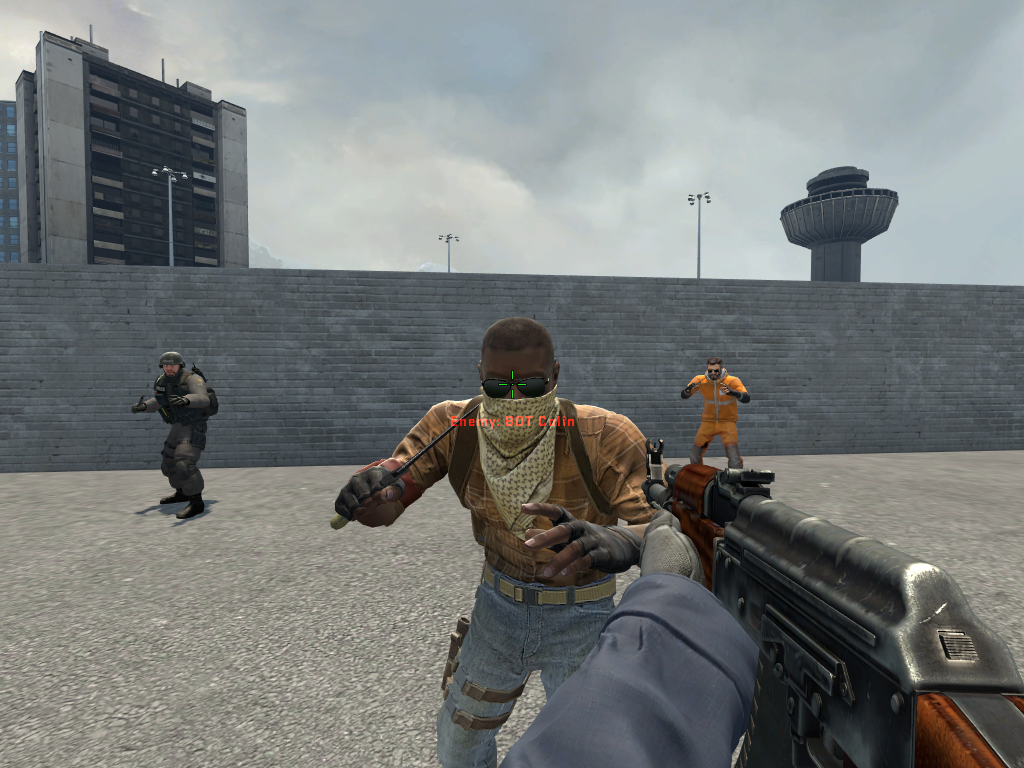ct head: (157, 350, 185, 381)
tr head: (473, 313, 564, 448), (705, 355, 723, 383)
